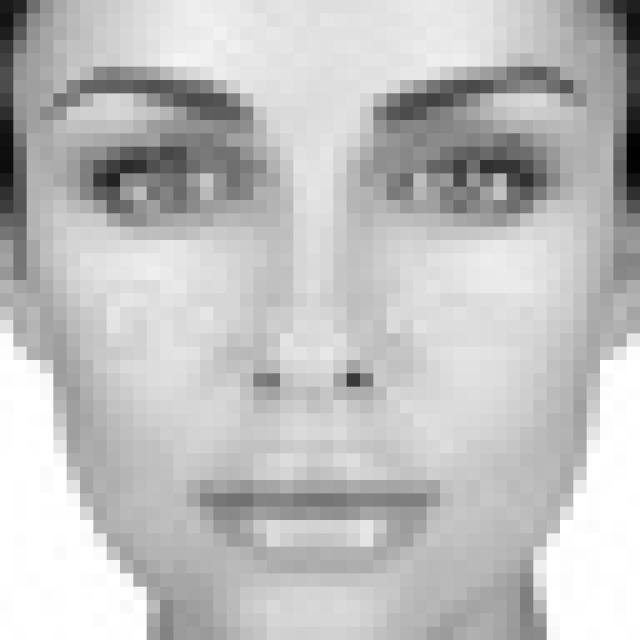neutral: (42, 53, 595, 579)
